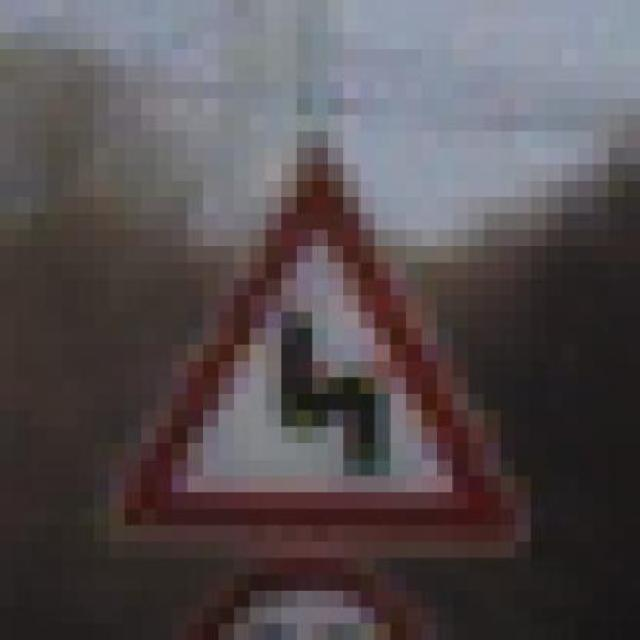Left Zig Zag Traffic: (104, 132, 556, 574)
